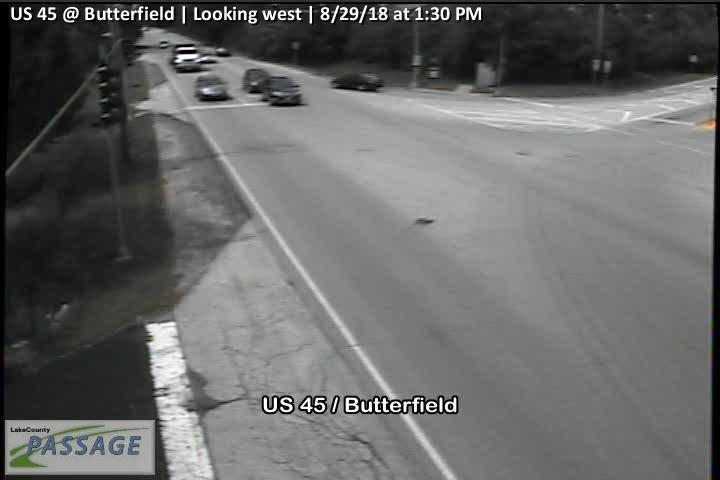SUV: (261, 74, 304, 108), (172, 46, 201, 72), (157, 38, 171, 50)
Sedan: (328, 72, 385, 94), (193, 73, 227, 102), (242, 68, 272, 91), (215, 45, 231, 57)
